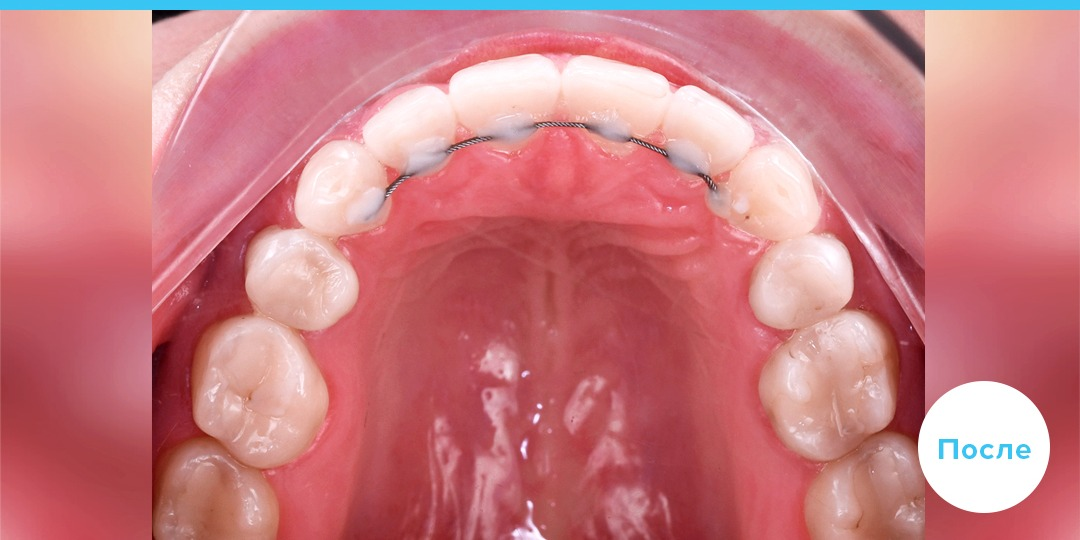UL1BC_healthy: (749, 236, 853, 328)
UL1M_healthy: (806, 435, 917, 540)
UL2BC_healthy: (762, 313, 894, 460)
ULCI_decay: (558, 56, 669, 153)
ULC_healthy: (733, 146, 819, 240)
ULLI_decay: (666, 84, 753, 178)
UR1BC_healthy: (246, 230, 358, 330)
UR1M_healthy: (156, 443, 280, 538)
UR2BC_healthy: (194, 316, 329, 469)
URCI_decay: (452, 54, 559, 147)
URC_decay: (296, 140, 389, 233)
URLI_decay: (365, 85, 453, 172)
